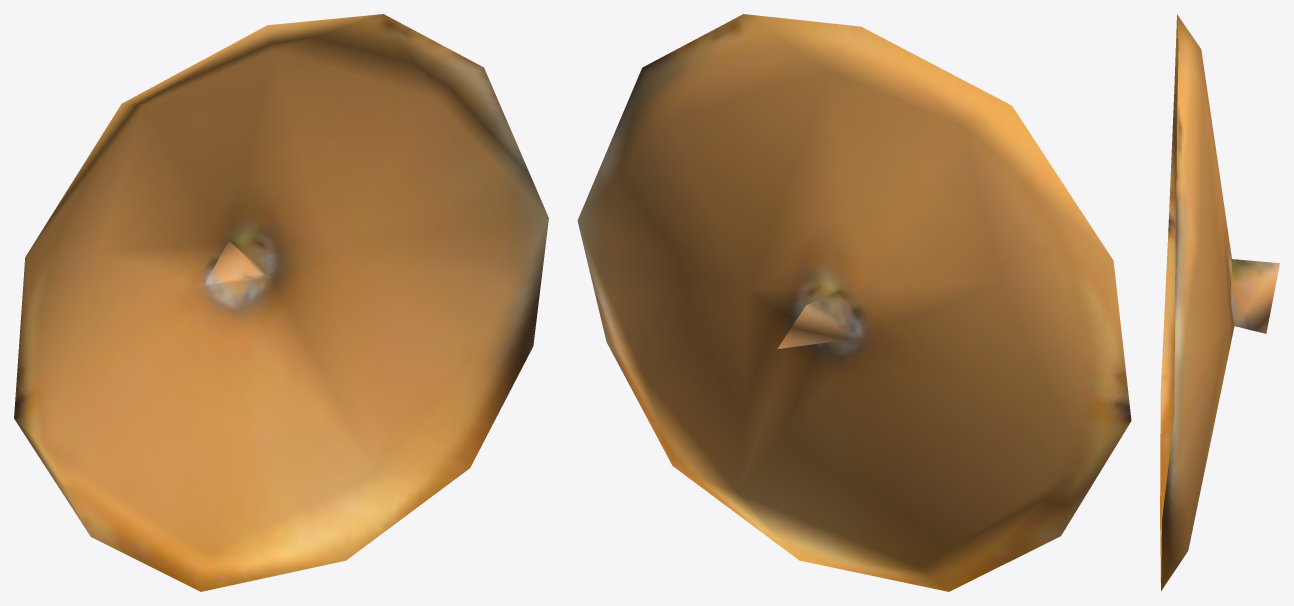
Rendered from drumset_hi_hat_top.glb.
3 views of the same model, side by side, from view 1: azimuth 30°, elevation 25°; view 2: azimuth 150°, elevation 25°; view 3: azimuth 270°, elevation 25° (orthographic). The views are drawn at different scales.
Visible parts, largest first — view 1: Mesh1.001; view 2: Mesh1.001; view 3: Mesh1.001.
Part boxes in pixels (x1,y1,x2,y2): Mesh1.001: (14,14,548,591); Mesh1.001: (577,14,1131,591); Mesh1.001: (1160,14,1279,591).
Bounding box in the file's own units: 0.3133 × 0.3035 × 0.0637.
Materials: 1 (1 with a texture image).
